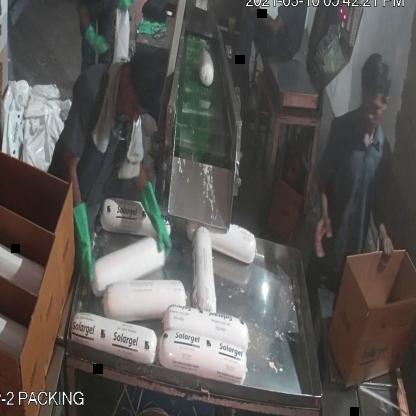glove: (135, 175, 177, 263), (68, 191, 100, 301)
no_glove: (303, 159, 342, 282), (372, 179, 400, 277), (303, 6, 336, 76), (243, 3, 296, 40)
